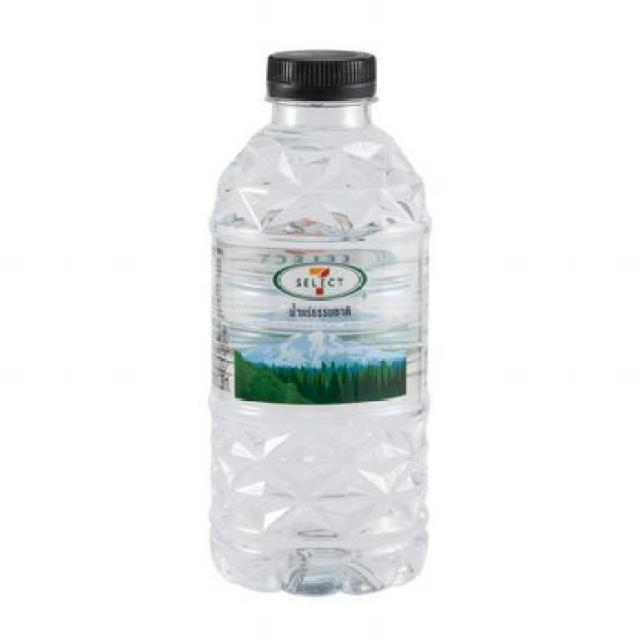bottle: (188, 33, 442, 604)
